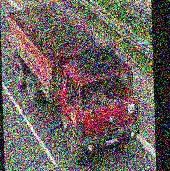truck: (5, 0, 140, 165)
